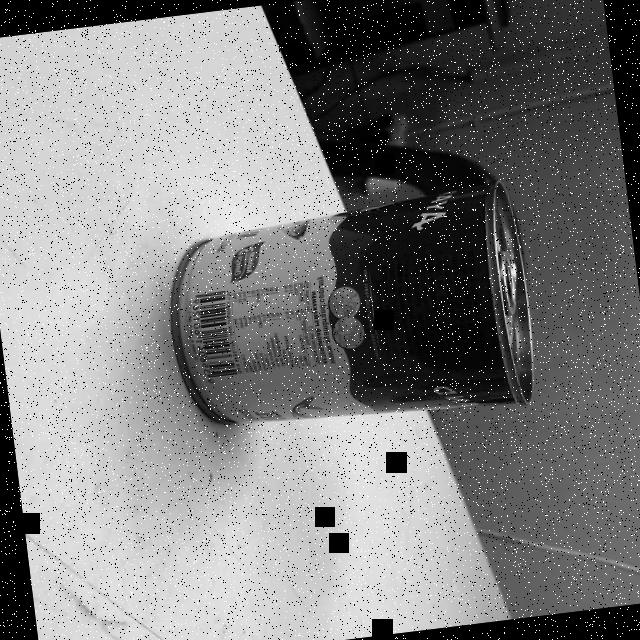can: (153, 177, 542, 448)
